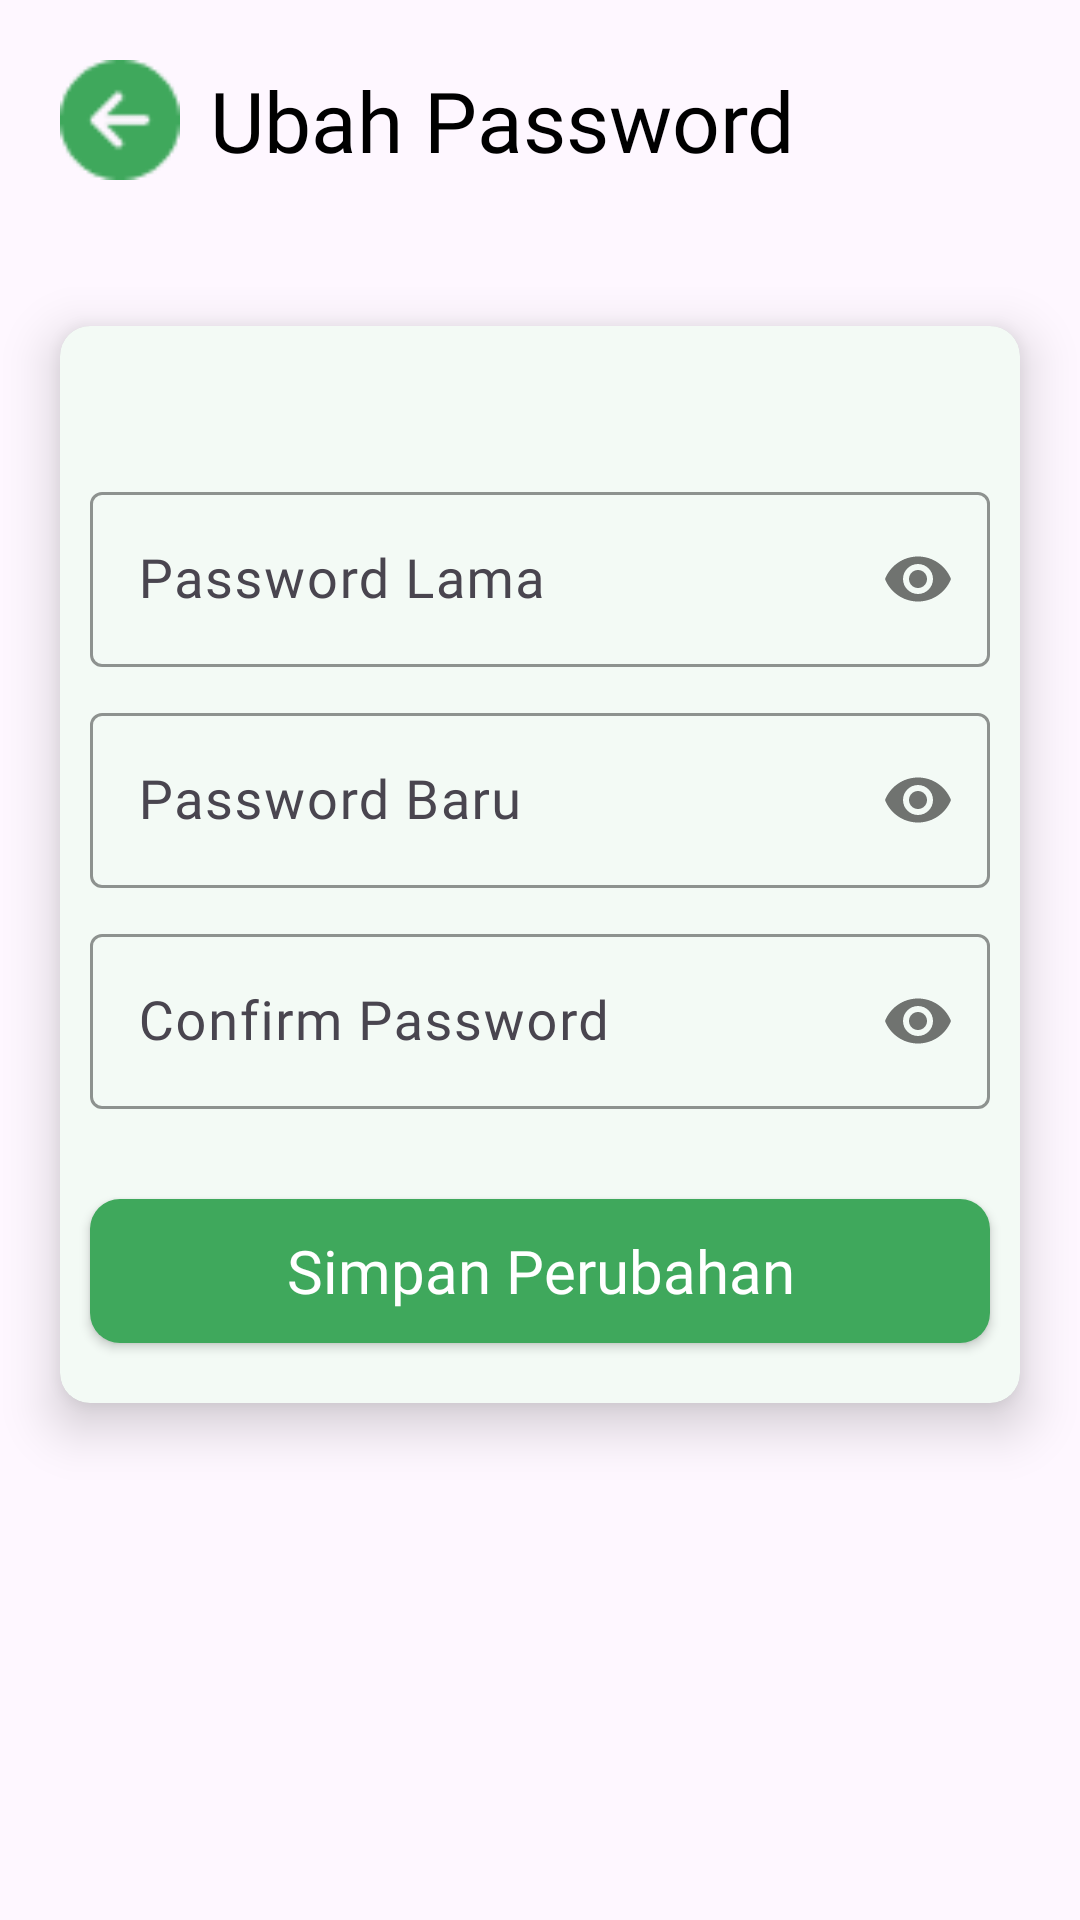

Locate icon controls on the screen. Image size 1080px×1920px, boxes as (x1, y1, x2, y2).
back: (60, 60, 180, 180)
